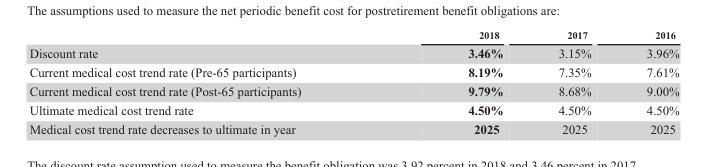table: (28, 29, 678, 136)
table column: (28, 29, 383, 136), (383, 29, 530, 136), (530, 29, 618, 136), (618, 29, 678, 136)
table column header: (28, 29, 678, 42)
table row: (28, 42, 678, 62), (28, 62, 678, 81), (28, 81, 678, 100), (28, 100, 678, 119), (28, 119, 678, 136), (28, 29, 678, 42)
